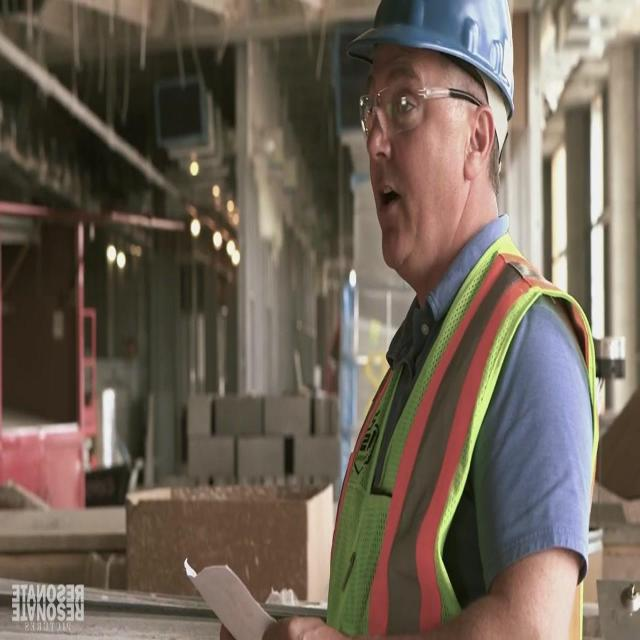Reflective-Jacket: (298, 233, 614, 635)
Safety-Helmet: (345, 0, 526, 128)
